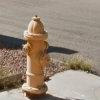Hydrant: (16, 5, 53, 100)
